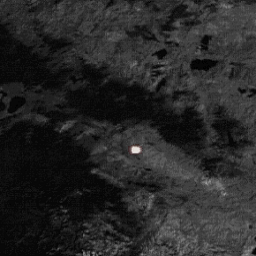Target: (129, 145, 144, 154)
